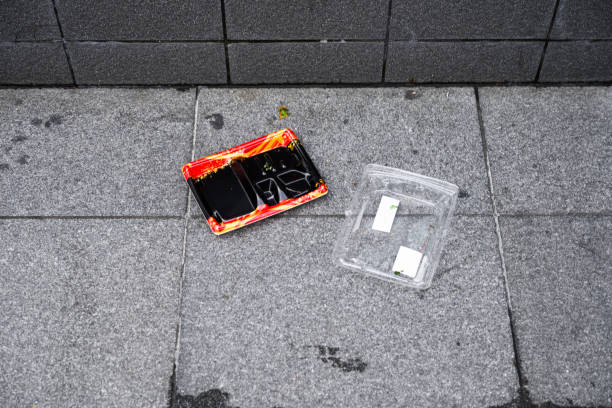plastic: (328, 152, 464, 312), (162, 122, 335, 232)
